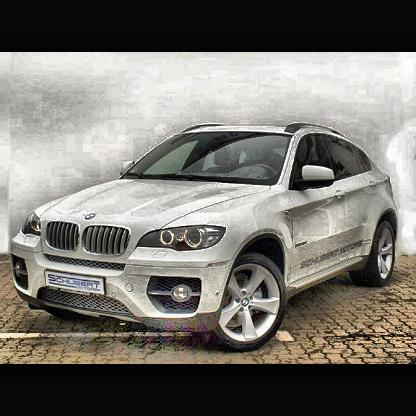BMW X6 SUV 2012: (9, 122, 400, 351)
